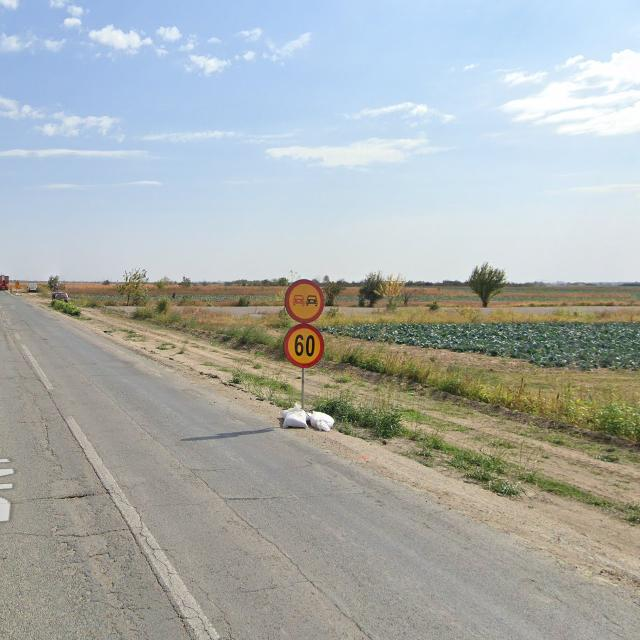forb_overtake: (284, 278, 324, 322)
forb_speed_over_60: (284, 324, 324, 368)
